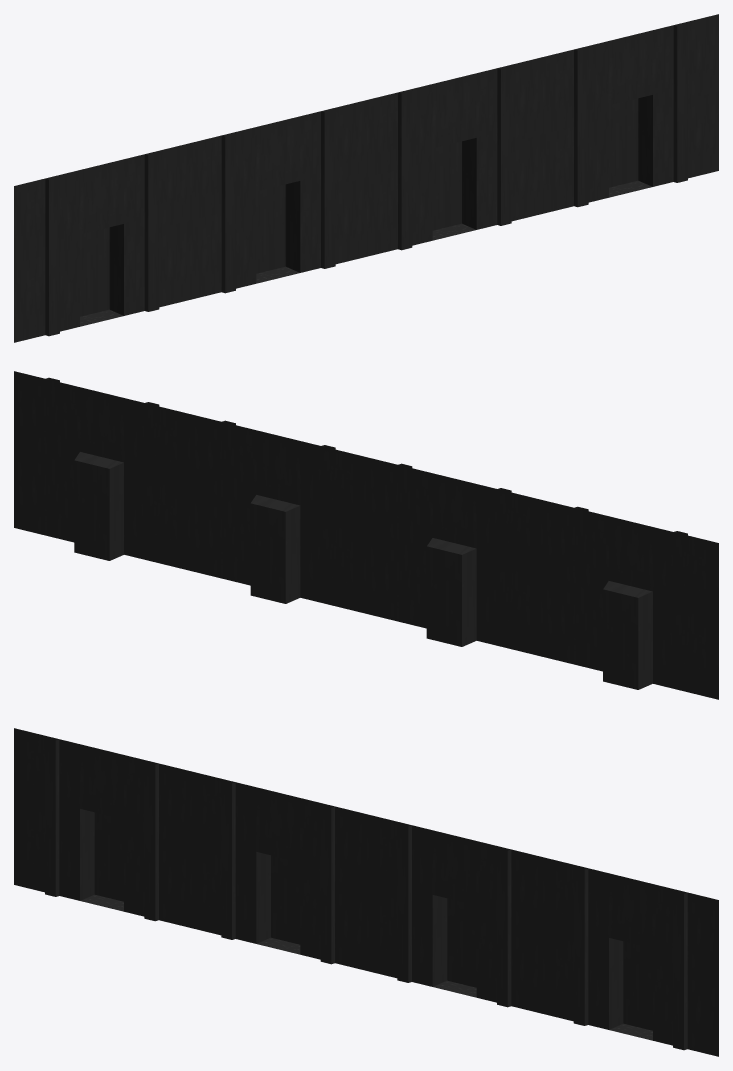
File: SW_ENV_RailTunnelWall_B_02_20m.fbx
The picture shows the model from 3 angles, top to bottom: view 1: azimuth 30°, elevation 25°; view 2: azimuth 150°, elevation 25°; view 3: azimuth 330°, elevation 25°; orthographic projection.
Visible parts, largest first — view 1: SW_ENV_RailTunnelWall_B_02_20m; view 2: SW_ENV_RailTunnelWall_B_02_20m; view 3: SW_ENV_RailTunnelWall_B_02_20m.
Part boxes in pixels (bbox=[...]): SW_ENV_RailTunnelWall_B_02_20m: bbox=[14, 14, 718, 342]; SW_ENV_RailTunnelWall_B_02_20m: bbox=[14, 371, 718, 699]; SW_ENV_RailTunnelWall_B_02_20m: bbox=[14, 728, 718, 1056].
Bounding box in the file's own units: 2000 × 425 × 60.
